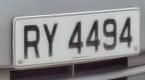4: (65, 17, 85, 58), (85, 17, 103, 58), (118, 14, 136, 54)
9: (101, 16, 119, 56)
R: (21, 20, 43, 65)
Y: (40, 19, 63, 63)
